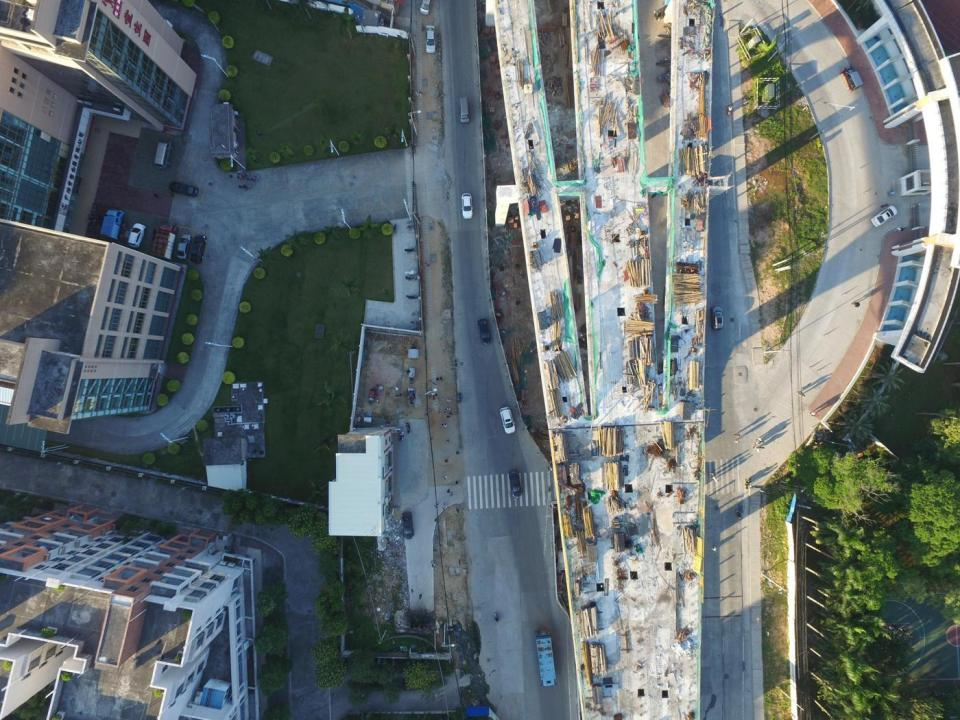car: (871, 206, 897, 228), (166, 180, 198, 197), (127, 223, 147, 247), (190, 234, 206, 263), (500, 405, 516, 434), (176, 232, 192, 260), (508, 470, 523, 499), (477, 318, 492, 346), (460, 192, 475, 219), (710, 305, 724, 331), (424, 24, 436, 52), (402, 512, 414, 539)
truck: (534, 628, 558, 687), (150, 222, 178, 259), (99, 208, 125, 238)
van: (841, 65, 865, 91), (153, 138, 171, 169), (458, 96, 470, 123), (418, 0, 433, 15)
